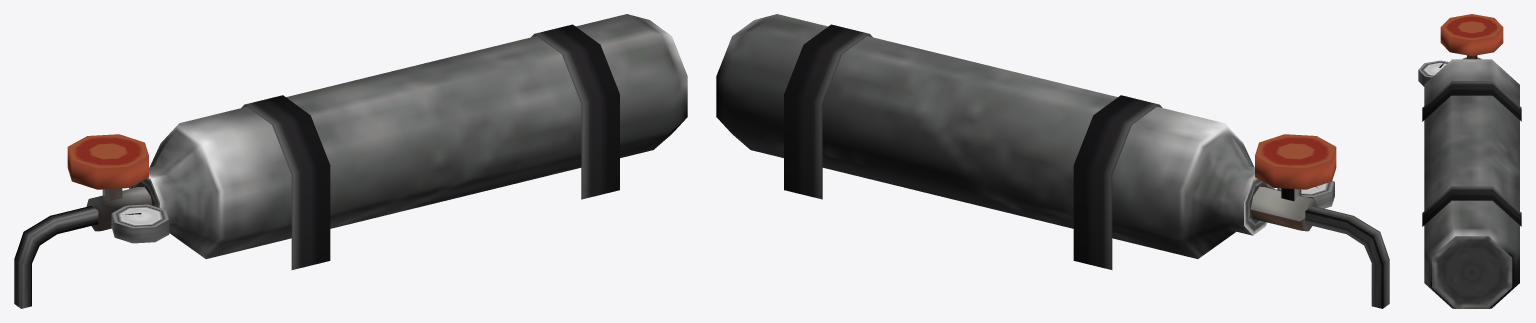
File: nto_b_s.glb
The picture shows the model from 3 angles, left to right: view 1: azimuth 30°, elevation 25°; view 2: azimuth 150°, elevation 25°; view 3: azimuth 270°, elevation 25°; orthographic projection. The views are drawn at different scales.
Visible parts, largest first — view 1: nto_b_s; view 2: nto_b_s; view 3: nto_b_s.
Part boxes in pixels (x1,y1,x2,y2): nto_b_s: (14,14,687,308); nto_b_s: (716,14,1389,308); nto_b_s: (1418,14,1521,308).
Bounding box in the file's own units: 0.6662 × 0.1317 × 0.1249.
2 materials, 2 textured.
